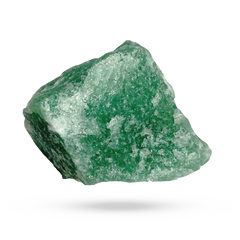Aventurine: (20, 39, 213, 186)
